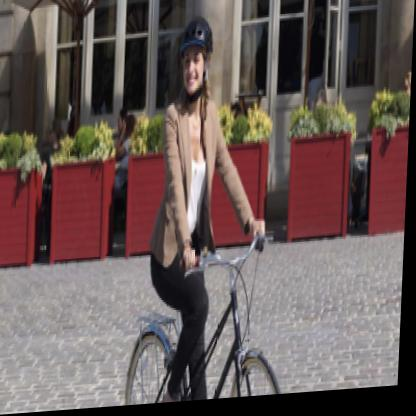With Helmet: (175, 14, 217, 101)
